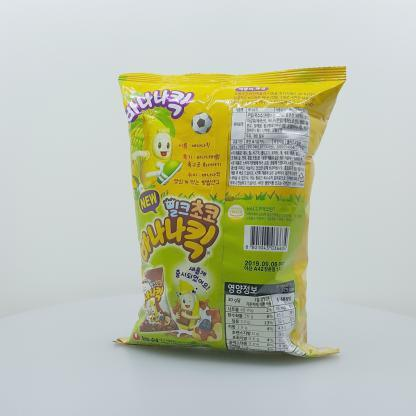Plastic Packaging: (109, 60, 344, 360)
